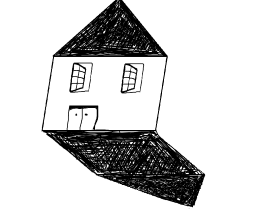door: (64, 101, 102, 135)
open_window: (68, 61, 93, 93), (121, 63, 144, 93)
shaded_roof: (53, 0, 168, 56)
shadow: (44, 127, 208, 209)
wall: (38, 51, 168, 134)
